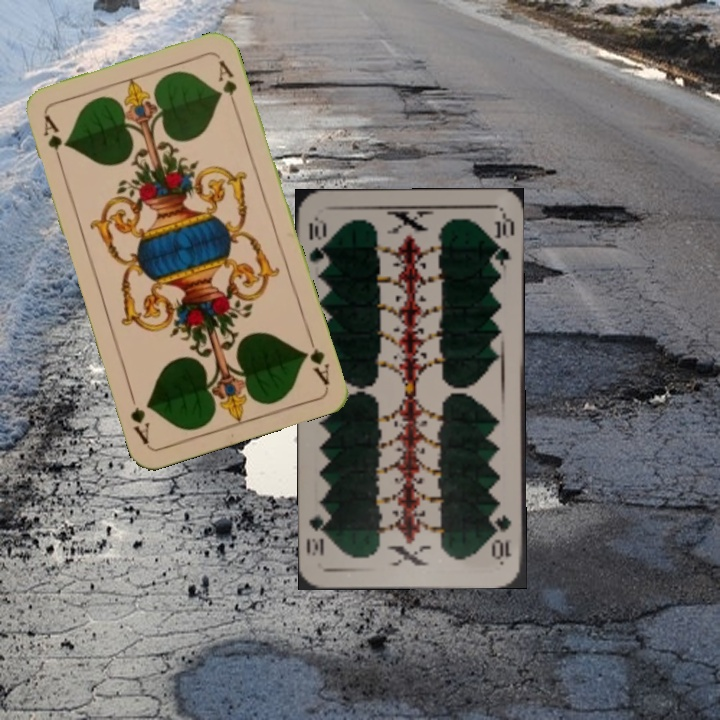G10: (305, 214, 329, 264), (491, 511, 514, 562)
GA: (299, 330, 332, 388), (39, 111, 65, 168)
